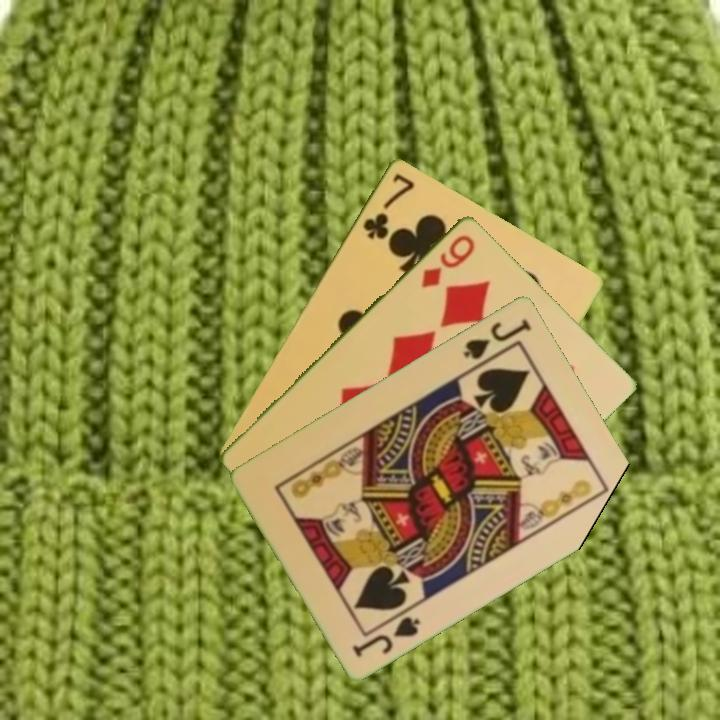7c: (359, 169, 417, 242)
9d: (417, 231, 478, 291)
Js: (459, 314, 535, 362), (348, 612, 424, 660)
